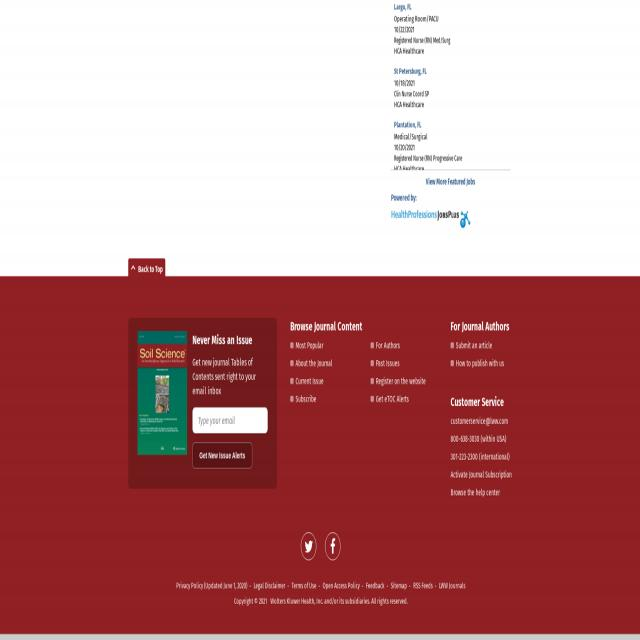button: (137, 331, 187, 455), (192, 442, 252, 468), (391, 210, 471, 228)
field: (192, 408, 268, 433)
